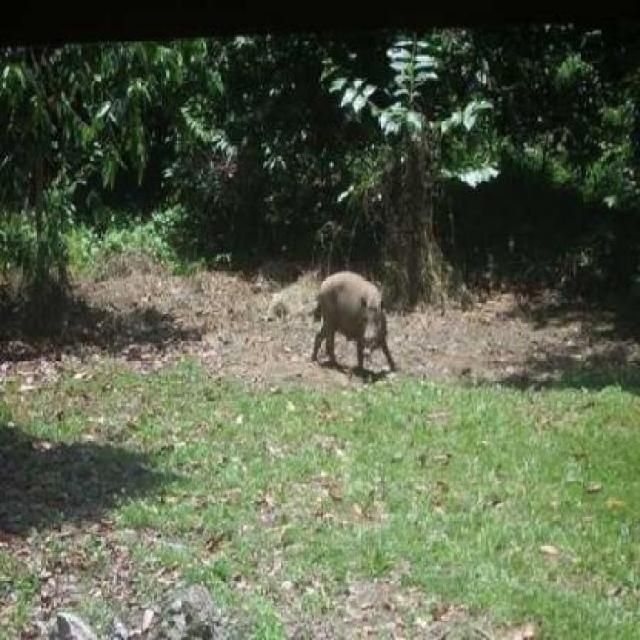pig: (291, 263, 412, 402)
